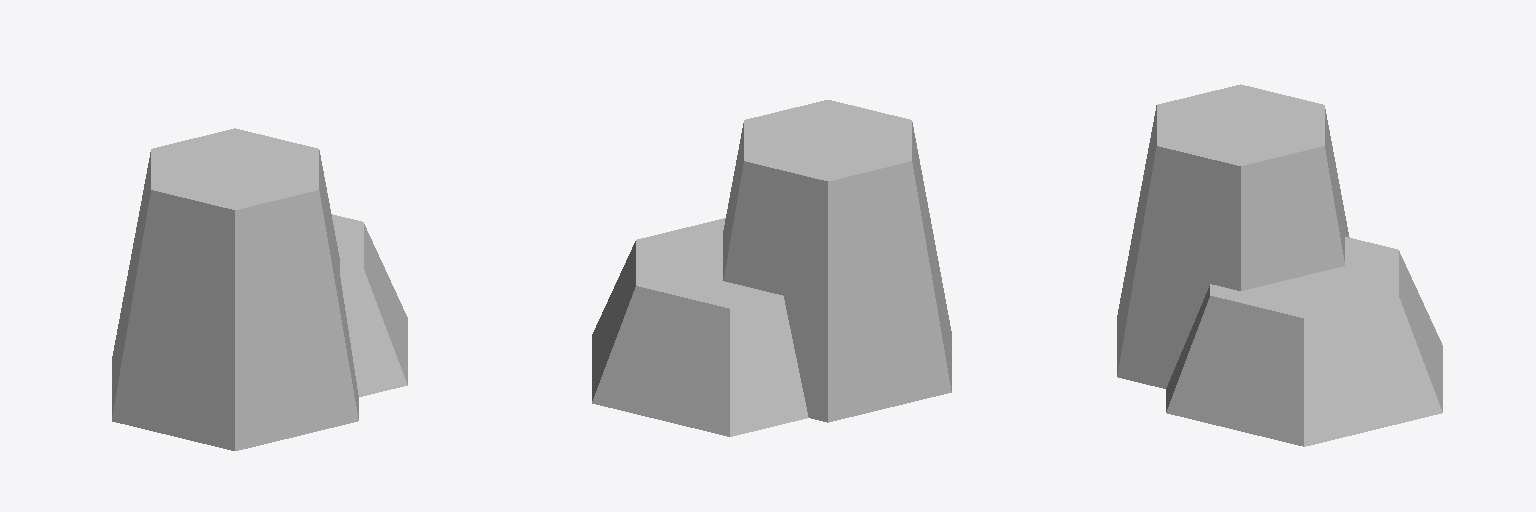
Rendered from resourceStone.obj.
3 renders of one model, left to right at view 1: azimuth 30°, elevation 25°; view 2: azimuth 150°, elevation 25°; view 3: azimuth 270°, elevation 25°, orthographic.
Visible parts, largest first — view 1: resourceStone; view 2: resourceStone; view 3: resourceStone.
Boxes of the visible parts, x1=… form: resourceStone: x1=112, y1=128, x2=407, y2=450; resourceStone: x1=592, y1=100, x2=951, y2=436; resourceStone: x1=1117, y1=84, x2=1442, y2=446.
Bounding box in the file's own units: 0.1653 × 0.1068 × 0.1422.